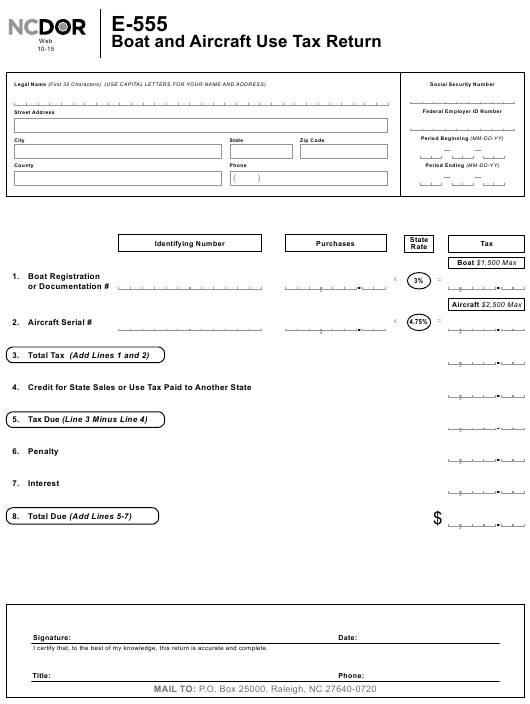textbox: (12, 116, 391, 135), (12, 168, 223, 188), (11, 142, 223, 161), (228, 168, 390, 188), (298, 142, 390, 160), (228, 142, 294, 161)
textline: (12, 96, 393, 108), (69, 631, 334, 646), (50, 668, 315, 683), (365, 669, 504, 684), (357, 630, 504, 644), (114, 320, 265, 333), (115, 280, 265, 291), (406, 95, 518, 106), (407, 121, 519, 132), (282, 280, 358, 292), (282, 321, 358, 333), (444, 278, 496, 292), (446, 320, 498, 334), (445, 354, 497, 368), (445, 387, 497, 401), (447, 419, 499, 433), (446, 450, 498, 464), (445, 482, 497, 496), (445, 516, 497, 530), (499, 278, 527, 293), (500, 318, 528, 333), (499, 352, 527, 367), (499, 385, 527, 400), (499, 417, 527, 432), (499, 450, 527, 465), (498, 483, 526, 496), (499, 516, 527, 529), (361, 280, 389, 291), (360, 321, 388, 332), (417, 151, 444, 160), (449, 151, 476, 160), (480, 151, 507, 160), (480, 178, 507, 187), (449, 178, 476, 187), (417, 178, 444, 187)
